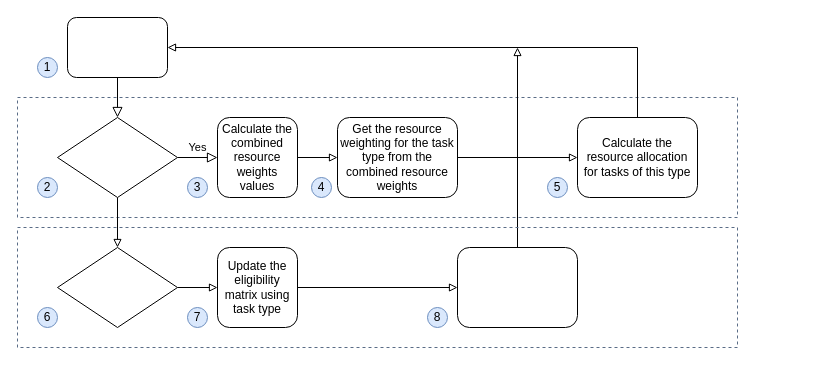
Some shapes in this 819 by 365 pixel diagram are drawn without their labels. Here are the shapes that lost their labels. From the top down, the box of each, then its label:
(66, 16, 168, 78): Receive absolute task value for atomic task
(56, 116, 178, 198): Message is an task allocation?
(16, 96, 738, 218): MG-RAO (weighting)
(56, 246, 178, 328): Message is an task reward?
(16, 226, 738, 348): MG-RAO (update)
(456, 246, 578, 328): apply eligibility trace and absolute task value to resource weights
